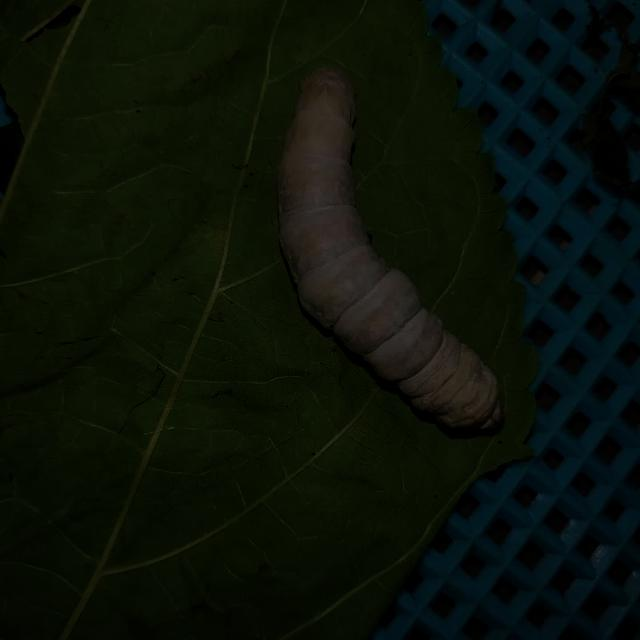Grasserie: (233, 36, 553, 458)
